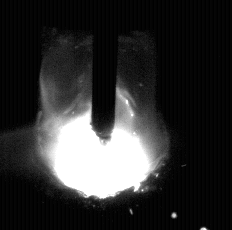arame: (92, 0, 117, 144)
poca: (35, 0, 169, 230)
